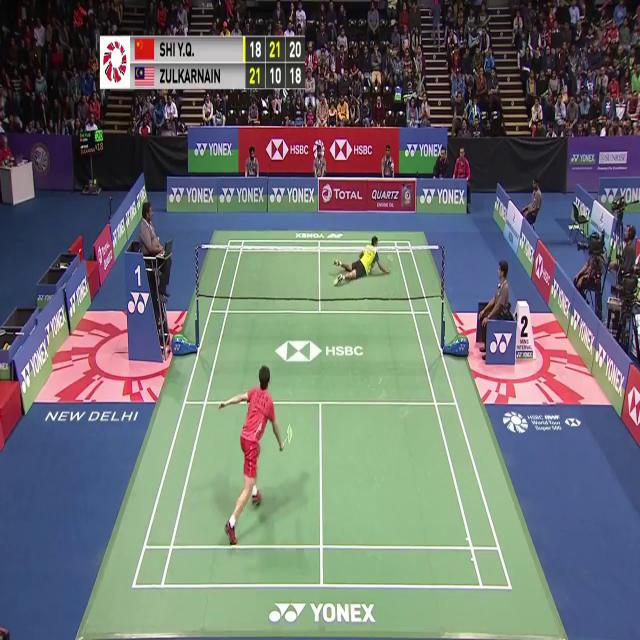Shuttlecock: (389, 159, 396, 170)
